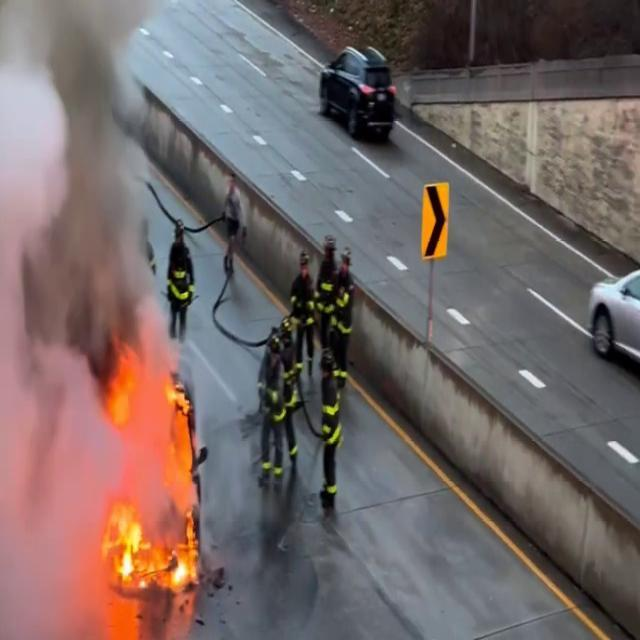Fire: (94, 339, 208, 599)
Smoke: (0, 0, 170, 613)
